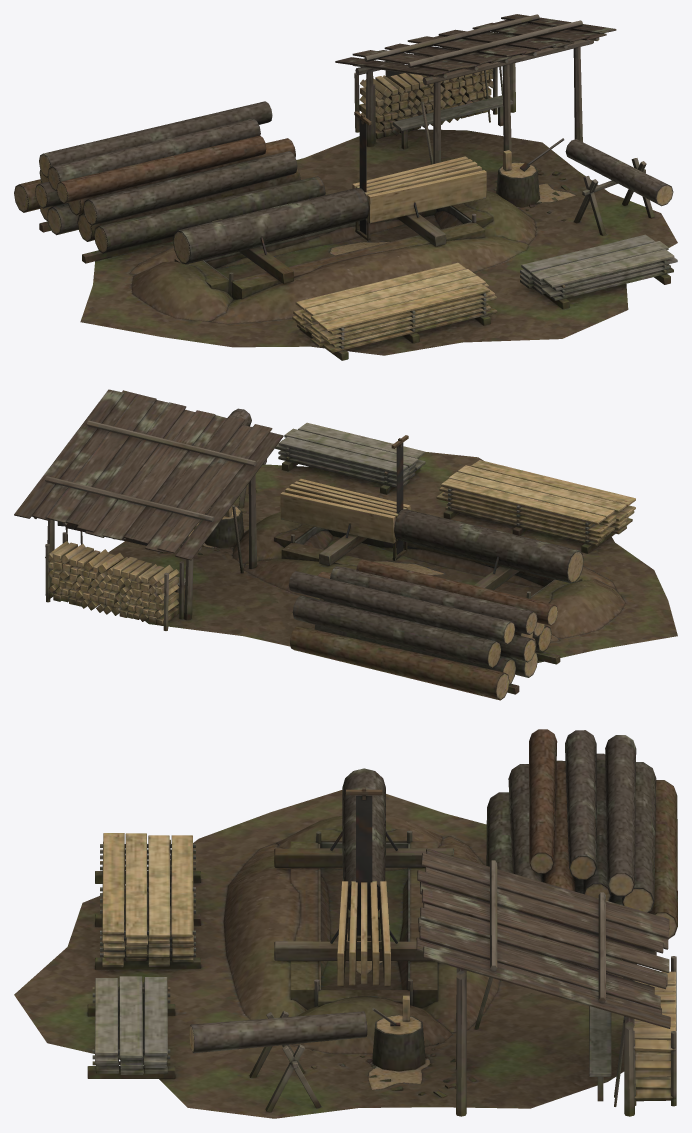
File: lumber_camp.glb
The picture shows the model from 3 angles, top to bottom: view 1: azimuth 30°, elevation 25°; view 2: azimuth 150°, elevation 25°; view 3: azimuth 270°, elevation 25°; orthographic projection. The views are drawn at different scales.
Parts seen in each view (by area): view 1: lumber_camp_LOD0; view 2: lumber_camp_LOD0; view 3: lumber_camp_LOD0.
Boxes of the visible parts, x1,y1,x2,y2 form: lumber_camp_LOD0: [14, 14, 677, 360]; lumber_camp_LOD0: [14, 389, 677, 700]; lumber_camp_LOD0: [14, 729, 677, 1118].
Size of what is drawn, in the model's own units: 11.08 by 2.62 by 9.06.
Materials: 1 (1 with a texture image).
